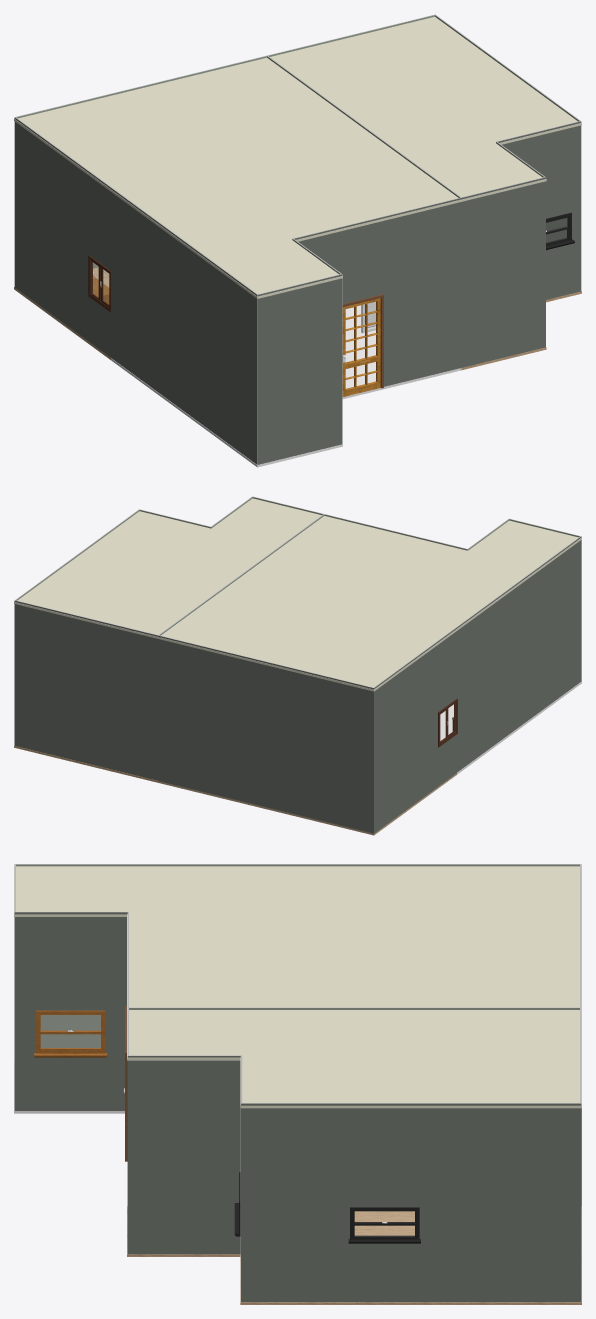
Rendered from ProcTHOR-Train-45.glb.
3 renders of one model, top to bottom at view 1: azimuth 30°, elevation 25°; view 2: azimuth 150°, elevation 25°; view 3: azimuth 270°, elevation 25°, orthographic. The views are drawn at different scales.
Visible parts, largest first — view 1: Ceiling#room|6|c, Ceiling#room|2|c, WallInside#wall|exterior|9.91|3.96|9.91|9.91, Ceiling#room|7|c, WallInside#wall|exterior|3.96|7.92|7.92|7.92, WallInside#wall|exterior|9.91|0.00|9.91|3.96, WallInside#wall|exterior|7.92|9.91|9.91|9.91, WallInside#wall|exterior|1.98|7.92|3.96|7.92, WallInside#wall|exterior|0.00|5.94|1.98|5.94, Floor#room|6|f, Doorway_Door_5b, WallInside#wall|2|0.00|0.00|0.00|5.94 (+2 smaller); view 2: WallInside#wall|exterior|3.96|0.00|9.91|0.00, WallInside#wall|exterior|0.00|0.00|3.96|0.00, Ceiling#room|6|c, Ceiling#room|2|c, WallInside#wall|exterior|9.91|3.96|9.91|9.91, Ceiling#room|7|c, WallInside#wall|exterior|9.91|0.00|9.91|3.96, Floor#room|7|f, Floor#room|6|f, Window_Slider_36x36; view 3: WallInside#wall|exterior|0.00|0.00|0.00|5.94, Ceiling#room|2|c, Ceiling#room|6|c, Ceiling#room|7|c, WallInside#wall|exterior|1.98|5.94|1.98|7.92, WallInside#wall|exterior|7.92|7.92|7.92|9.91, Floor#room|2|f, WallInside#wall|6|9.91|3.96|9.91|9.91, Window_Hung_48x32, Window_Hung_48x24, WallInside#wall|2|3.96|3.96|3.96|7.92, WallInside#wall|7|9.91|0.00|9.91|3.96 (+1 smaller).
Boxes of the visible parts, x1,y1,x2,y2 form: Ceiling#room|6|c: (111,129,462,298); Ceiling#room|2|c: (267,16,581,201); WallInside#wall|exterior|9.91|3.96|9.91|9.91: (112,188,257,464); Ceiling#room|7|c: (14,57,363,191); WallInside#wall|exterior|3.96|7.92|7.92|7.92: (293,198,460,386); WallInside#wall|exterior|9.91|0.00|9.91|3.96: (14,117,111,358); WallInside#wall|exterior|7.92|9.91|9.91|9.91: (257,274,342,464); WallInside#wall|exterior|1.98|7.92|3.96|7.92: (461,177,545,367); WallInside#wall|exterior|0.00|5.94|1.98|5.94: (496,121,581,299); Floor#room|6|f: (111,305,461,467); Doorway_Door_5b: (342,298,380,396); WallInside#wall|2|0.00|0.00|0.00|5.94: (435,15,580,242); WallInside#wall|exterior|3.96|0.00|9.91|0.00: (158,635,373,833); WallInside#wall|exterior|0.00|0.00|3.96|0.00: (14,600,158,780); Ceiling#room|6|c: (242,516,581,630); Ceiling#room|2|c: (14,498,322,638); WallInside#wall|exterior|9.91|3.96|9.91|9.91: (457,536,581,772); Ceiling#room|7|c: (157,576,456,691); WallInside#wall|exterior|9.91|0.00|9.91|3.96: (374,627,457,832); Floor#room|7|f: (157,773,456,835); Floor#room|6|f: (440,681,581,774); Window_Slider_36x36: (438,698,457,747); WallInside#wall|exterior|0.00|0.00|0.00|5.94: (241,1103,581,1301); Ceiling#room|2|c: (127,1009,581,1108); Ceiling#room|6|c: (14,866,355,1008); Ceiling#room|7|c: (353,866,581,1008); WallInside#wall|exterior|1.98|5.94|1.98|7.92: (127,1055,241,1254); WallInside#wall|exterior|7.92|7.92|7.92|9.91: (14,912,127,1110); Floor#room|2|f: (127,1206,581,1304); WallInside#wall|6|9.91|3.96|9.91|9.91: (16,864,354,1047); Window_Hung_48x32: (34,1010,106,1057); Window_Hung_48x24: (348,1207,420,1243); WallInside#wall|2|3.96|3.96|3.96|7.92: (129,1007,354,1009); WallInside#wall|7|9.91|0.00|9.91|3.96: (354,864,580,866).
Size of what is drawn, in the model's own units: 10.07 by 3.88 by 9.95.
Materials: 200 (72 with a texture image).
